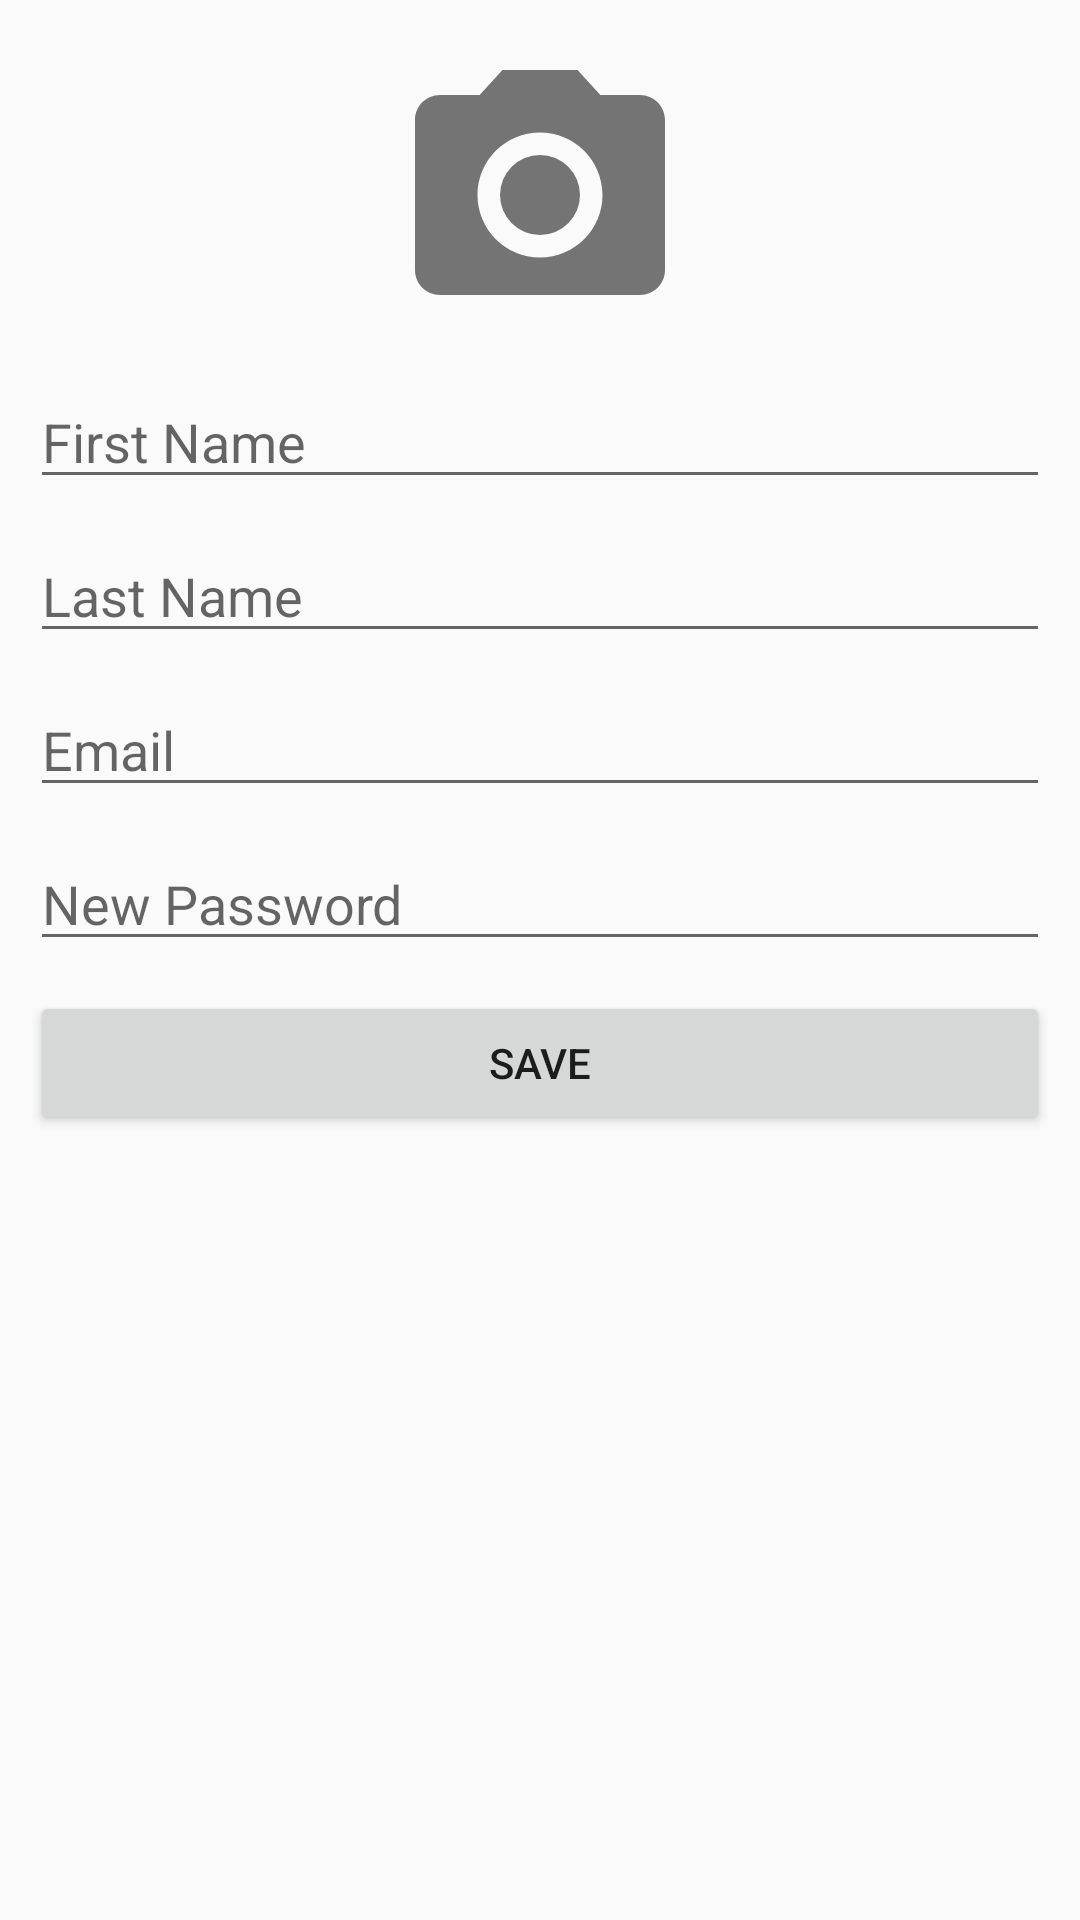

Screen size 1080x1920. Icon name, then its center in pixels as (x,y):
Click to add picture: (540,182)
